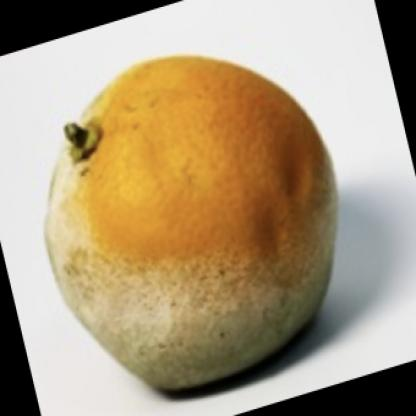rotten_orange: (38, 52, 347, 387)
